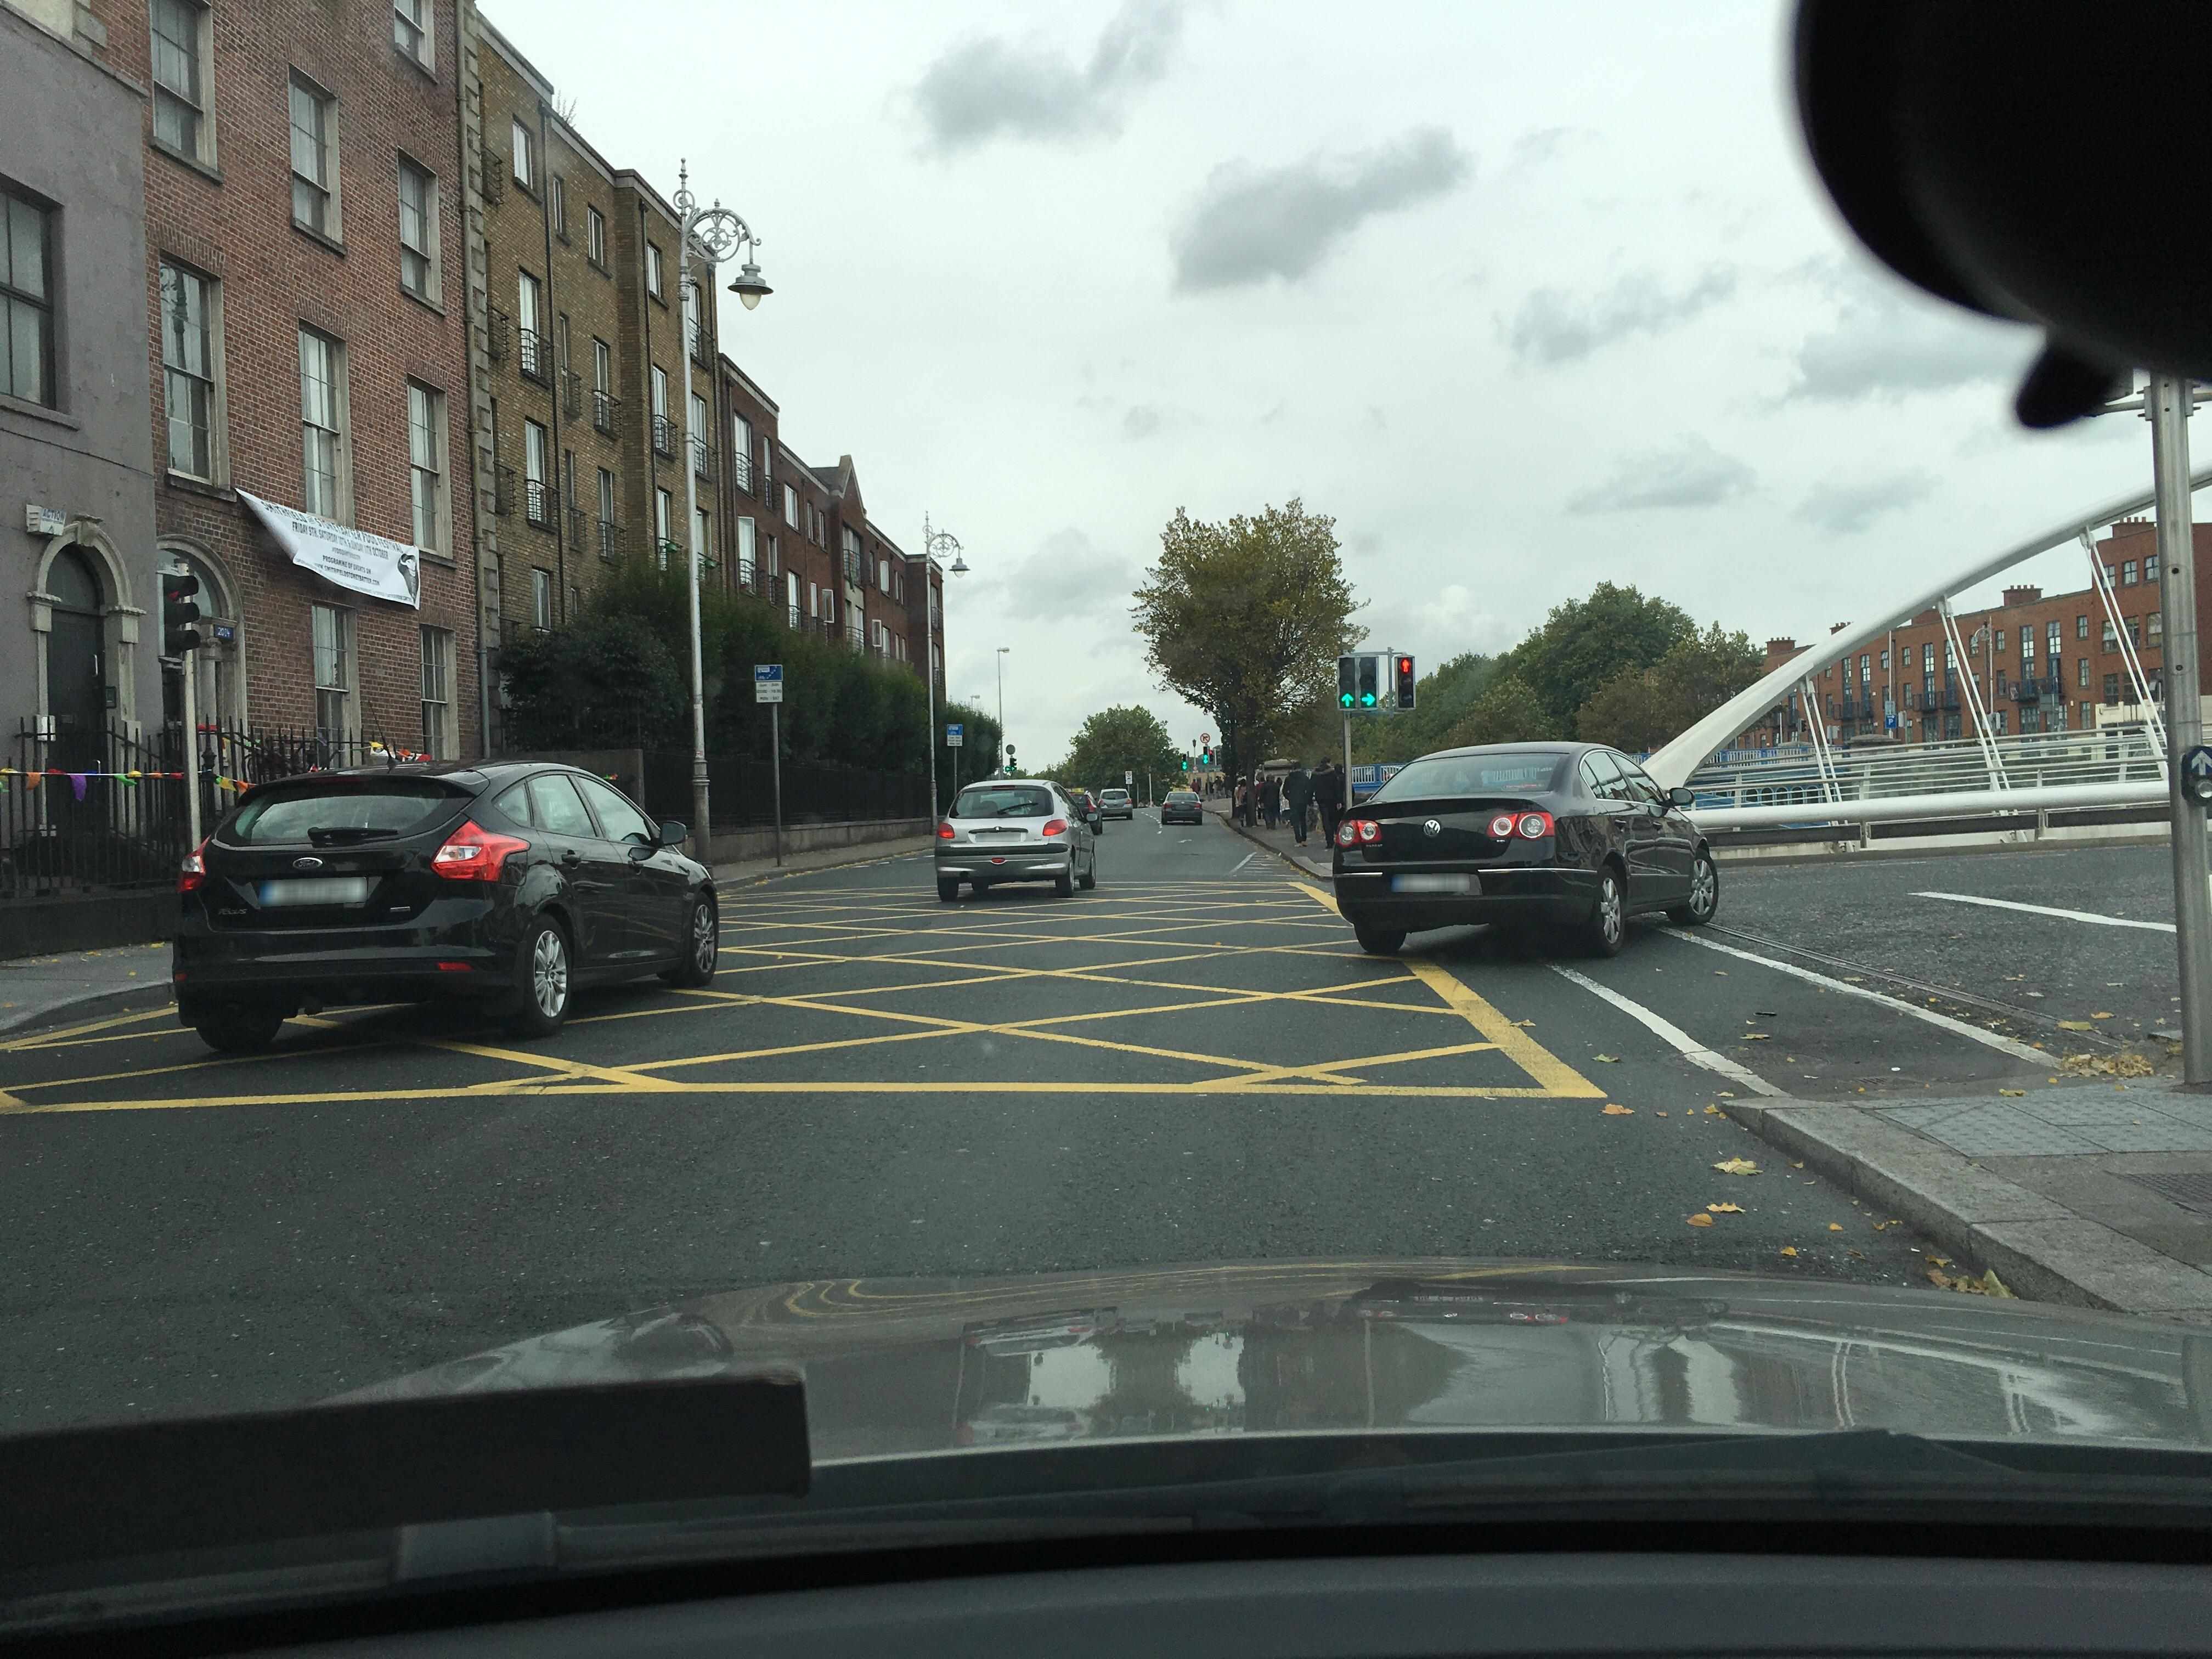vinyl banner: (233, 469, 437, 620)
